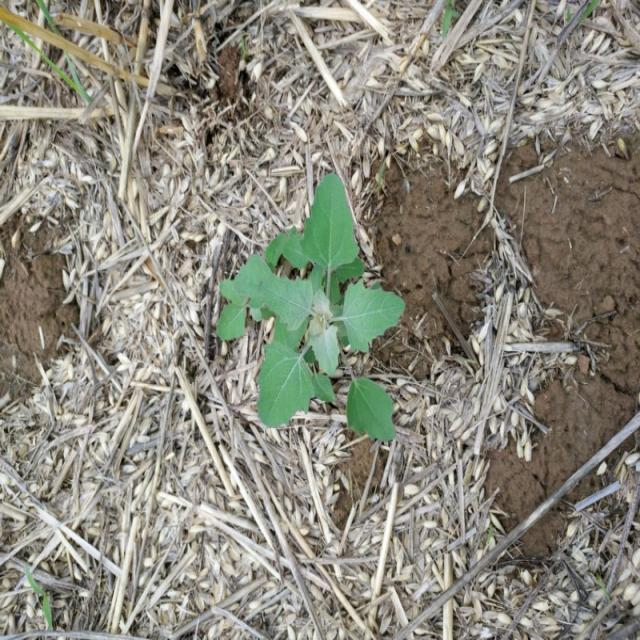goosefoots: (202, 170, 422, 438)
